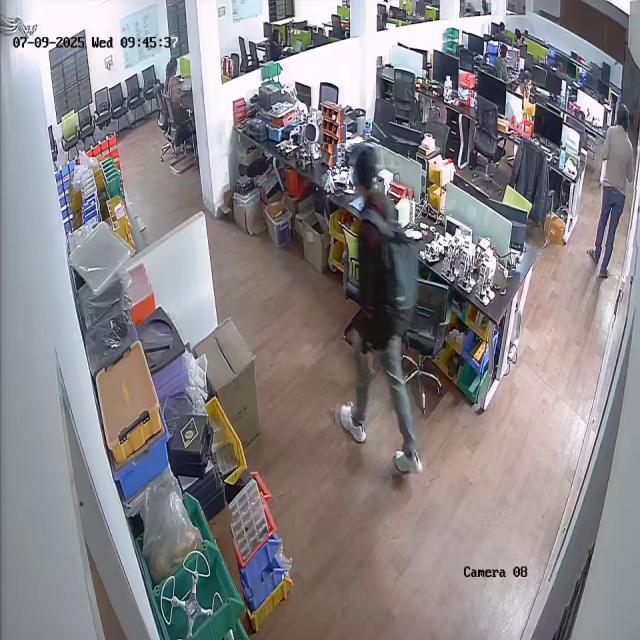person: (325, 141, 422, 477), (586, 102, 637, 276)
